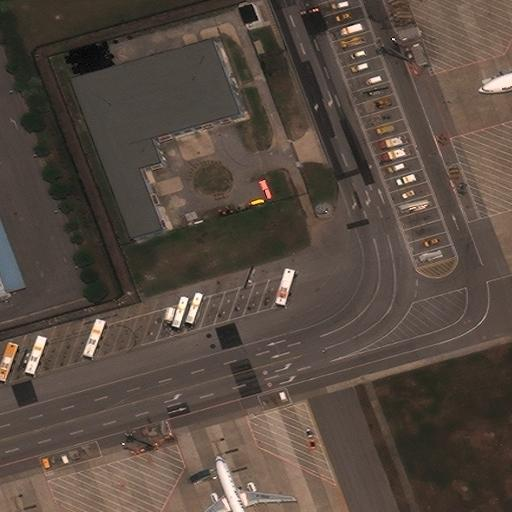Medium Civil Transport: (191, 455, 293, 511)
